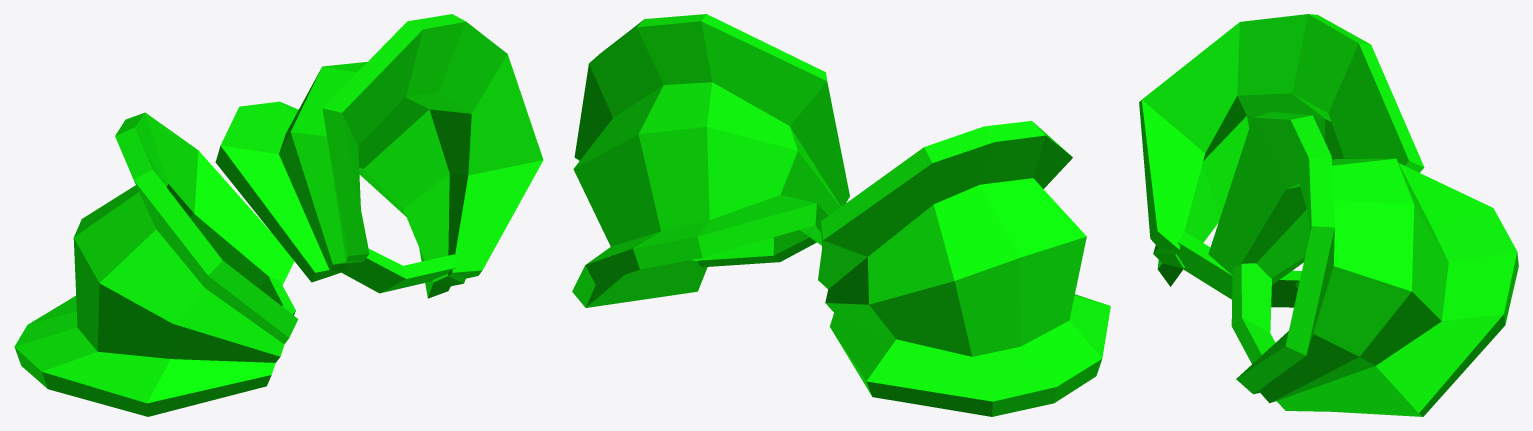
Rendered from SM_Armor_Arm_A_Placed_Fantasy.fbx.
3 renders of one model, left to right at view 1: azimuth 30°, elevation 25°; view 2: azimuth 150°, elevation 25°; view 3: azimuth 270°, elevation 25°, orthographic. The views are drawn at different scales.
Parts seen in each view (by area): view 1: armor-arm-a-placed-fantasy; view 2: armor-arm-a-placed-fantasy; view 3: armor-arm-a-placed-fantasy.
Part boxes in pixels (x1,y1,x2,y2): armor-arm-a-placed-fantasy: [14, 14, 543, 416]; armor-arm-a-placed-fantasy: [572, 14, 1110, 416]; armor-arm-a-placed-fantasy: [1139, 14, 1518, 416].
Size of the model in its own units: 0.4013 by 0.2092 by 0.2478.
